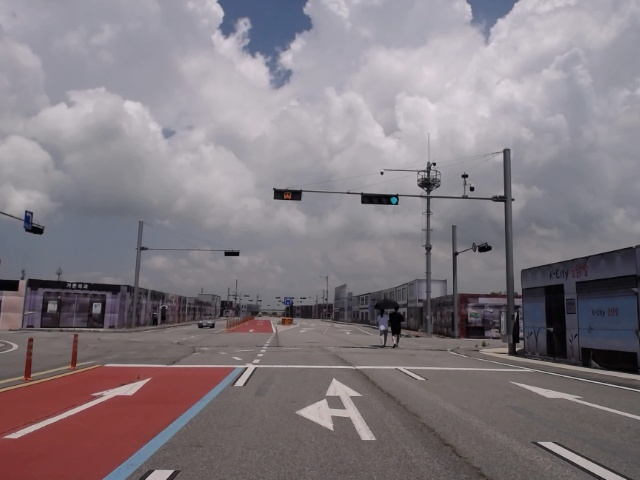straight_green_4: (362, 194, 400, 205)
